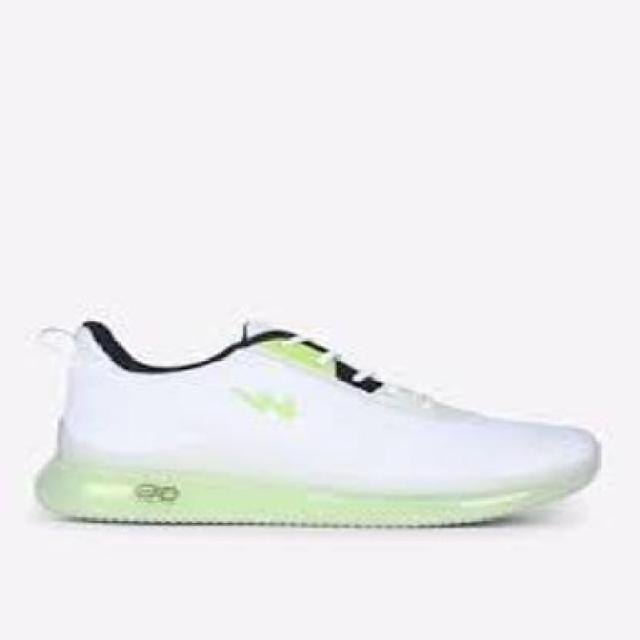not trash: (29, 313, 600, 529)
